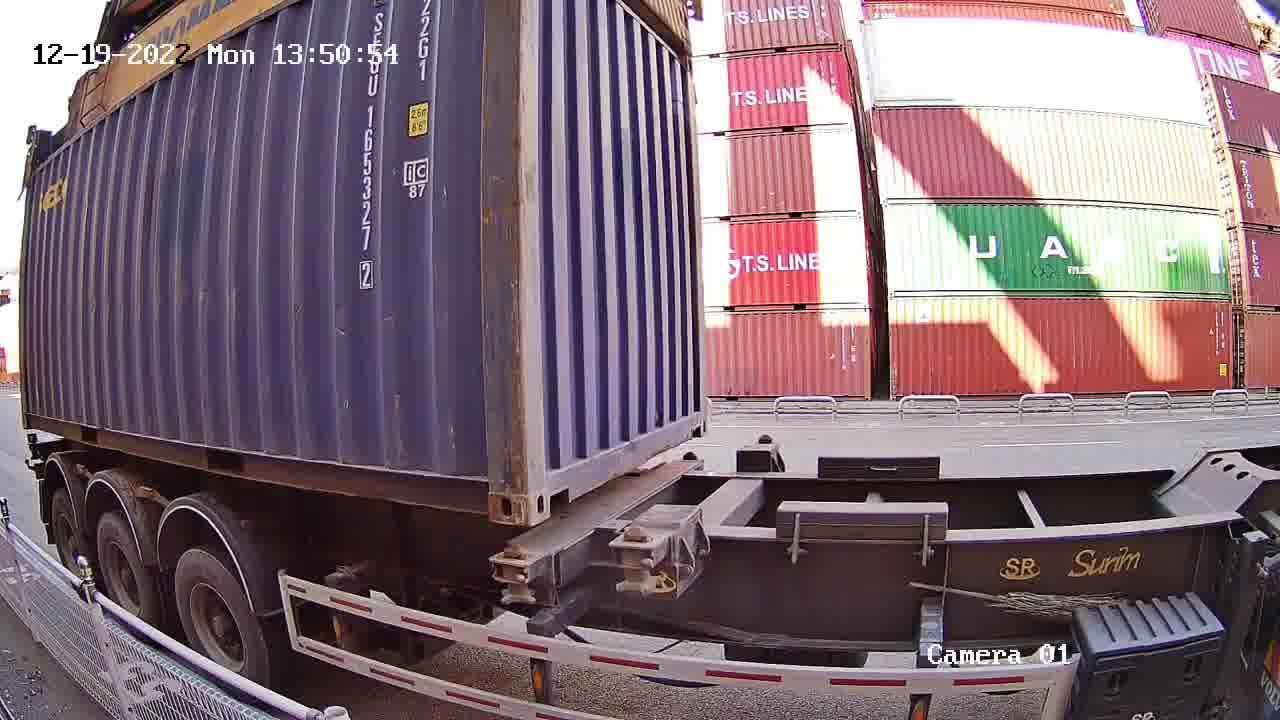Chassis: (508, 458, 703, 596)
Cone: (482, 538, 545, 606), (676, 449, 703, 467)
Hole_L: (523, 425, 578, 526)
Hole_R: (453, 438, 526, 525), (679, 388, 710, 443)
Tire: (175, 553, 266, 677), (96, 516, 153, 617), (51, 494, 83, 573)
